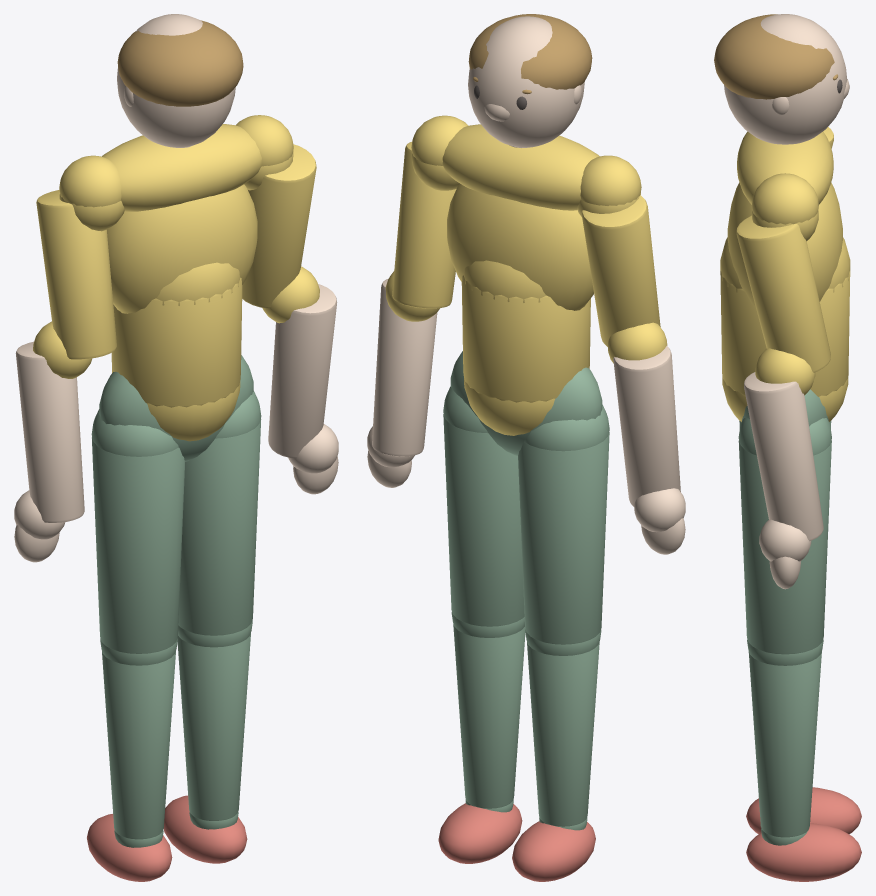
Rendered from th30_kind.glb.
The picture shows the model from 3 angles, left to right: view 1: azimuth 30°, elevation 25°; view 2: azimuth 150°, elevation 25°; view 3: azimuth 270°, elevation 25°; orthographic projection.
Visible parts, largest first — view 1: Cone.006, Cone.008, Cone, Sphere, Cone.007, Cone.009, Cone.002, Cone.003, Sphere.004, Cone.005, Sphere.011, Cone.004 (+19 smaller); view 2: Cone.006, Cone.008, Cone, Sphere, Cone.007, Cone.009, Sphere.007, Sphere.004, Cone.002, Cone.005, Cone.003, Cone.004 (+18 smaller); view 3: Cone.009, Cone.008, Cone.004, Cone.005, Sphere.007, Sphere.011, Cone, Sphere.037, Sphere.004, Sphere, Sphere.022, Sphere.032 (+10 smaller).
Boxes of the visible parts, <box> form: Cone.006: <box>92,437,185,653</box>; Cone.008: <box>178,419,261,635</box>; Cone: <box>111,278,242,407</box>; Sphere: <box>107,184,257,313</box>; Cone.007: <box>102,651,175,839</box>; Cone.009: <box>177,633,250,820</box>; Cone.002: <box>36,190,116,359</box>; Cone.003: <box>15,341,84,523</box>; Sphere.004: <box>102,124,261,211</box>; Cone.005: <box>268,284,337,458</box>; Sphere.011: <box>117,20,243,106</box>; Cone.004: <box>242,144,316,308</box>; Cone.006: <box>518,432,609,644</box>; Cone.008: <box>443,414,524,626</box>; Cone: <box>461,275,590,402</box>; Sphere: <box>447,183,593,310</box>; Cone.007: <box>527,642,599,826</box>; Cone.009: <box>453,624,525,808</box>; Sphere.007: <box>468,16,584,147</box>; Sphere.004: <box>442,124,599,210</box>; Cone.002: <box>581,195,660,346</box>; Cone.005: <box>372,279,437,456</box>; Cone.003: <box>613,346,680,506</box>; Cone.004: <box>392,142,456,308</box>; Cone.009: <box>748,651,821,837</box>; Cone.008: <box>738,441,831,654</box>; Cone.004: <box>736,215,830,372</box>; Cone.005: <box>744,372,823,541</box>; Sphere.007: <box>724,14,847,144</box>; Sphere.011: <box>714,14,834,99</box>; Cone: <box>720,271,850,396</box>; Sphere.037: <box>746,823,861,881</box>; Sphere.004: <box>737,131,833,204</box>; Sphere: <box>727,182,842,305</box>; Sphere.022: <box>751,173,818,224</box>; Sphere.032: <box>746,787,861,834</box>.
Bounding box in the file's own units: 0.4861 × 1.23 × 0.1963.
